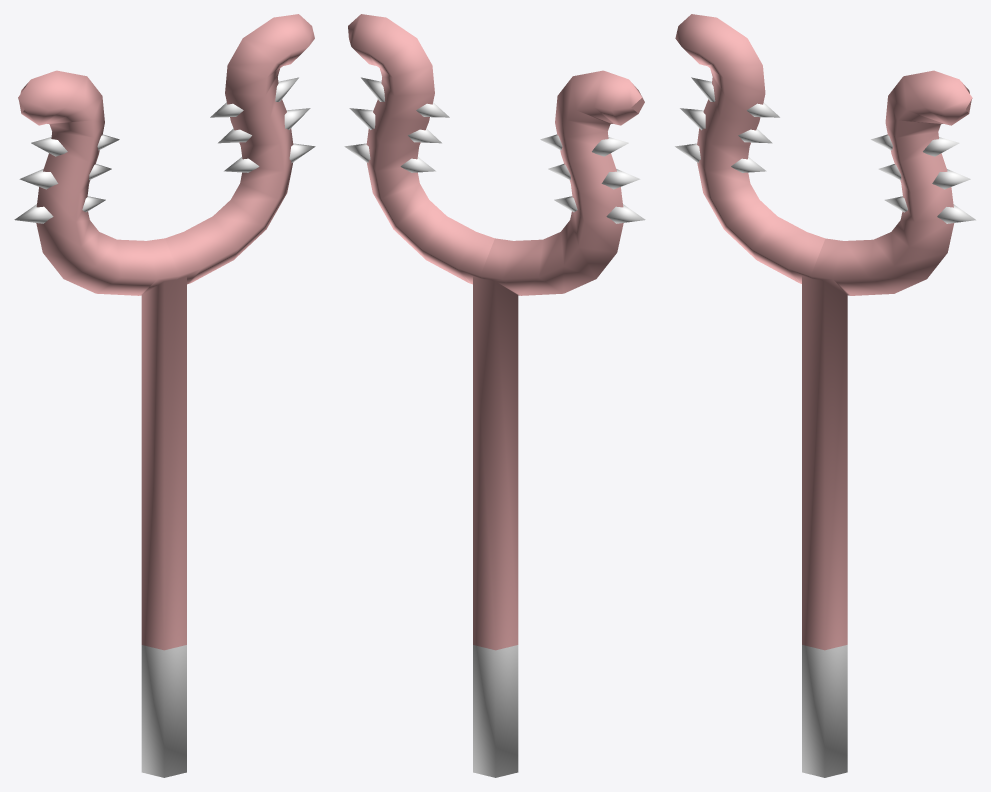
Rendered from TeapotTex.glb.
The picture shows the model from 3 angles, left to right: view 1: azimuth 30°, elevation 25°; view 2: azimuth 150°, elevation 25°; view 3: azimuth 330°, elevation 25°; orthographic projection.
Visible parts, largest first — view 1: TeapotTex; view 2: TeapotTex; view 3: TeapotTex.
Part boxes in pixels (box(x1,y1,x2,y2)): TeapotTex: box(14, 14, 315, 777); TeapotTex: box(344, 14, 645, 777); TeapotTex: box(675, 14, 975, 777).
Size of the model in its own units: 3.18 by 7.27 by 0.54.
Materials: 1 (1 with a texture image).
